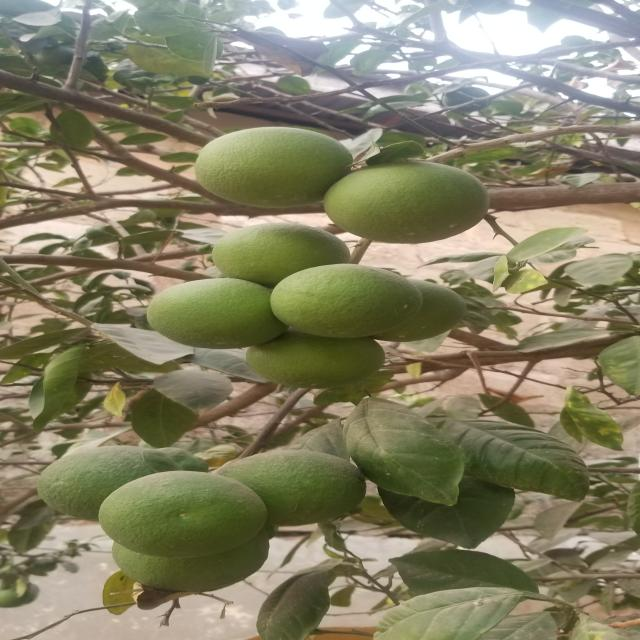Unripe: (313, 151, 503, 246), (98, 468, 274, 560), (196, 124, 346, 213), (49, 441, 196, 527), (278, 264, 424, 339), (183, 219, 349, 283), (147, 271, 274, 354), (242, 336, 412, 391), (108, 540, 261, 600), (395, 343, 405, 351)
